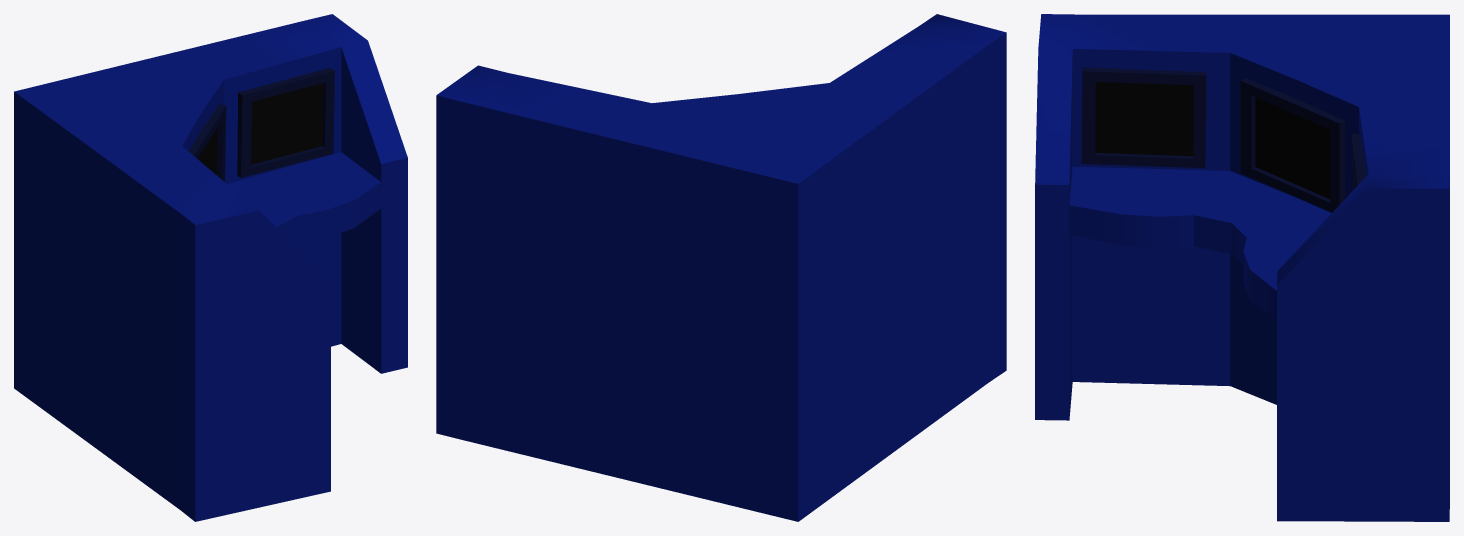
File: squareDeskMesh.fbx
3 views of the same model, side by side, from view 1: azimuth 30°, elevation 25°; view 2: azimuth 150°, elevation 25°; view 3: azimuth 270°, elevation 25° (orthographic). The views are drawn at different scales.
Visible parts, largest first — view 1: polySurface5; view 2: polySurface5; view 3: polySurface5.
Boxes of the visible parts, left/top/right/bottom form: polySurface5: left=14, top=14, right=407, bottom=521; polySurface5: left=436, top=14, right=1006, bottom=521; polySurface5: left=1035, top=14, right=1449, bottom=521.
Size of the model in its own units: 1.2 by 1.07 by 1.21.
